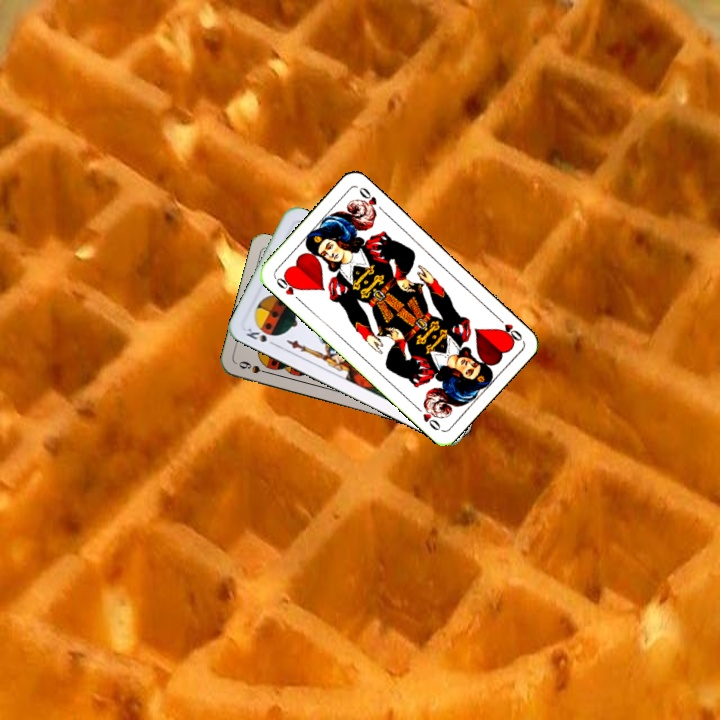HO: (271, 271, 304, 305), (492, 312, 525, 344)
S9: (235, 357, 274, 377)
SK: (242, 324, 280, 349)
